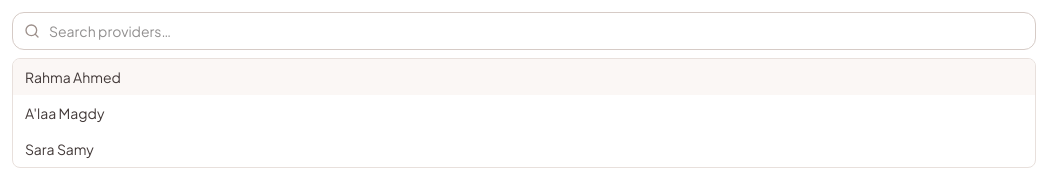
Test case: EntityPicker — search filtering › shows the empty message when no item matches the search
The image size is (1048, 185).
Type "zzz-no-match" into the dropdown at (524, 31), box x1=12 y1=12 x2=1036 y2=50
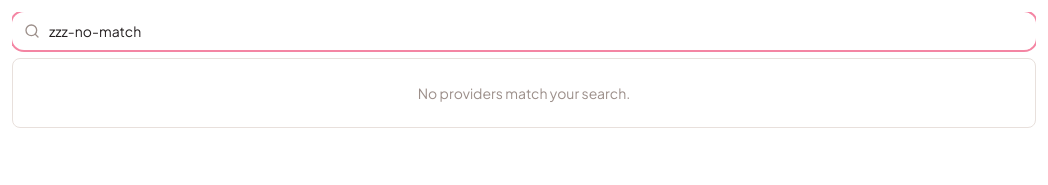
Result: the text "No providers match your search." is shown at x1=418 y1=84 x2=630 y2=102
Result: the option is gone
